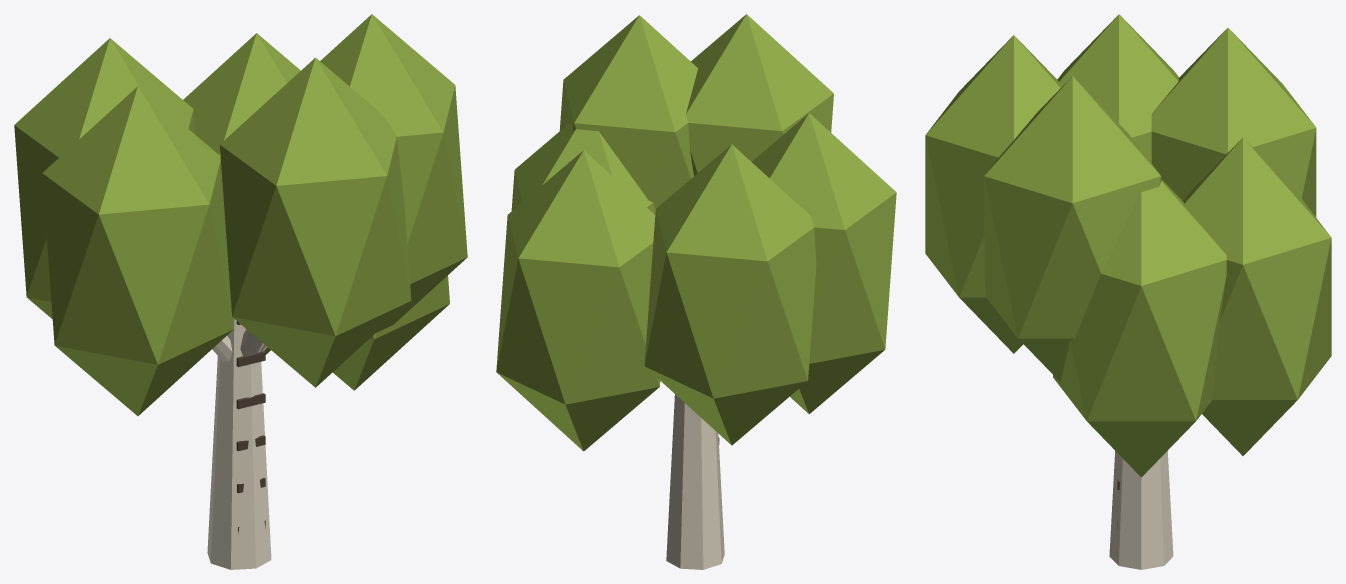
File: nature_birch.glb
3 renders of one model, left to right at view 1: azimuth 30°, elevation 25°; view 2: azimuth 150°, elevation 25°; view 3: azimuth 270°, elevation 25°, orthographic. The views are drawn at different scales.
Parts seen in each view (by area): view 1: nature_birch; view 2: nature_birch; view 3: nature_birch.
Part boxes in pixels (x1,y1,x2,y2): nature_birch: (14,14,467,569); nature_birch: (496,14,896,569); nature_birch: (925,14,1331,569).
Bounding box in the file's own units: 2.75 × 3.63 × 2.54.
